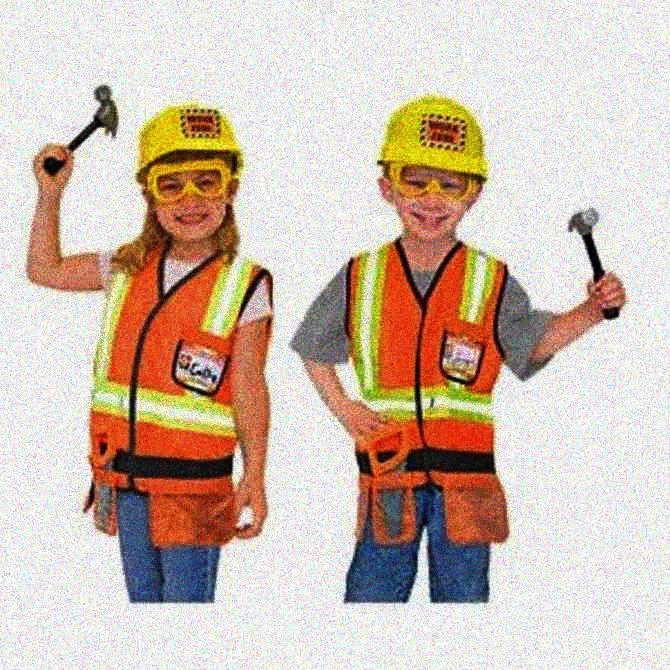helmet: (376, 96, 488, 237), (134, 101, 243, 243)
